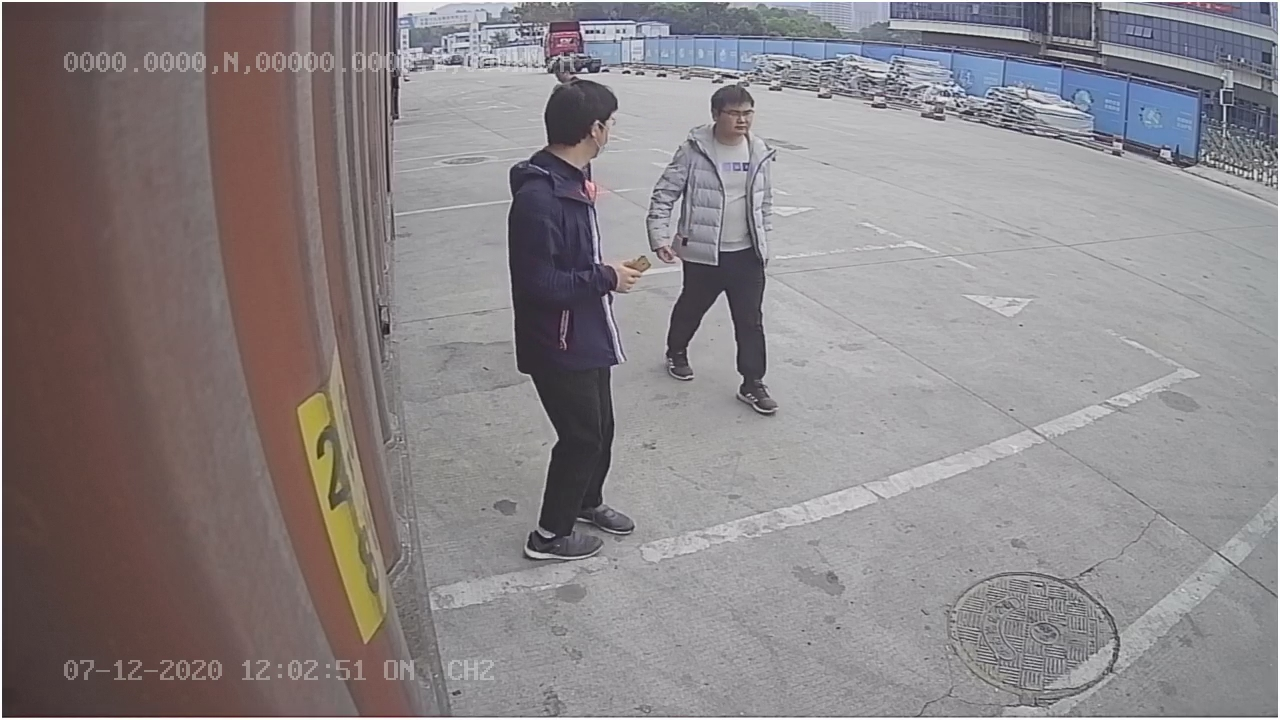person: (498, 75, 643, 560)
